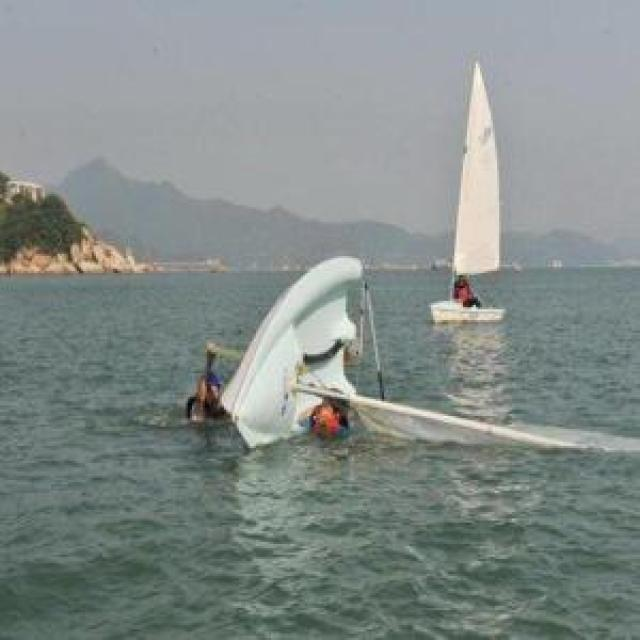sailboat: (222, 252, 640, 458), (424, 55, 520, 330)
